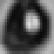correct: (2, 2, 48, 54)
